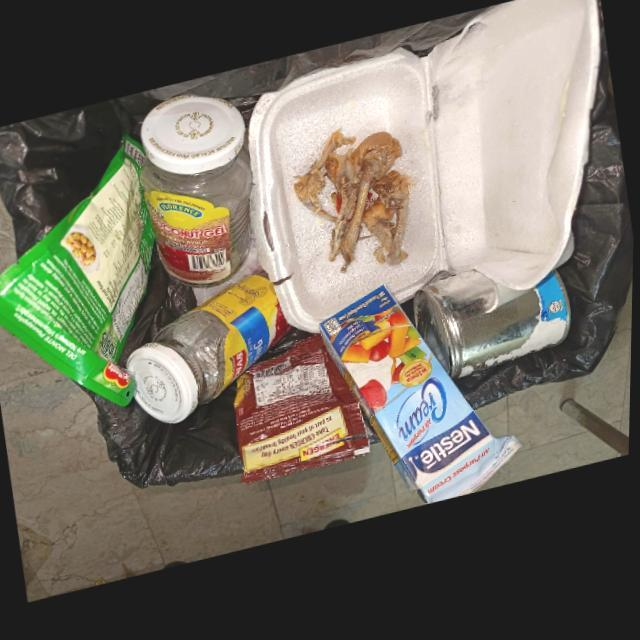biowaste: (294, 134, 417, 280)
glass: (127, 280, 293, 427), (141, 97, 254, 291)
metal: (415, 279, 573, 388)
paper: (320, 292, 525, 513)
styrofoam: (249, 0, 604, 339)
wrapper: (0, 135, 156, 410), (236, 340, 373, 489)
